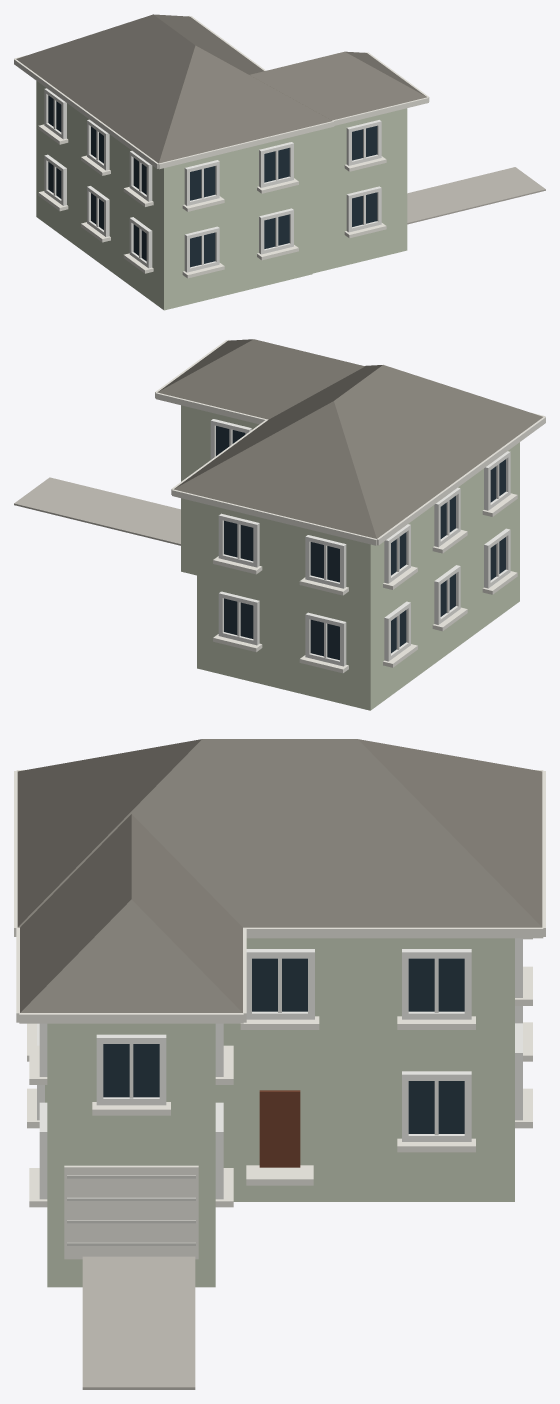
3 views of the same model, one above another, from view 1: azimuth 30°, elevation 25°; view 2: azimuth 150°, elevation 25°; view 3: azimuth 270°, elevation 25° (orthographic). The views are drawn at different scales.
Visible parts, largest first — view 1: b4373; view 2: b4373; view 3: b4373.
Part boxes in pixels (x1,y1,x2,y2): b4373: (14,14,545,310); b4373: (14,339,545,710); b4373: (14,739,545,1389).
Size of the model in its own units: 7674 by 3889 by 4731.
